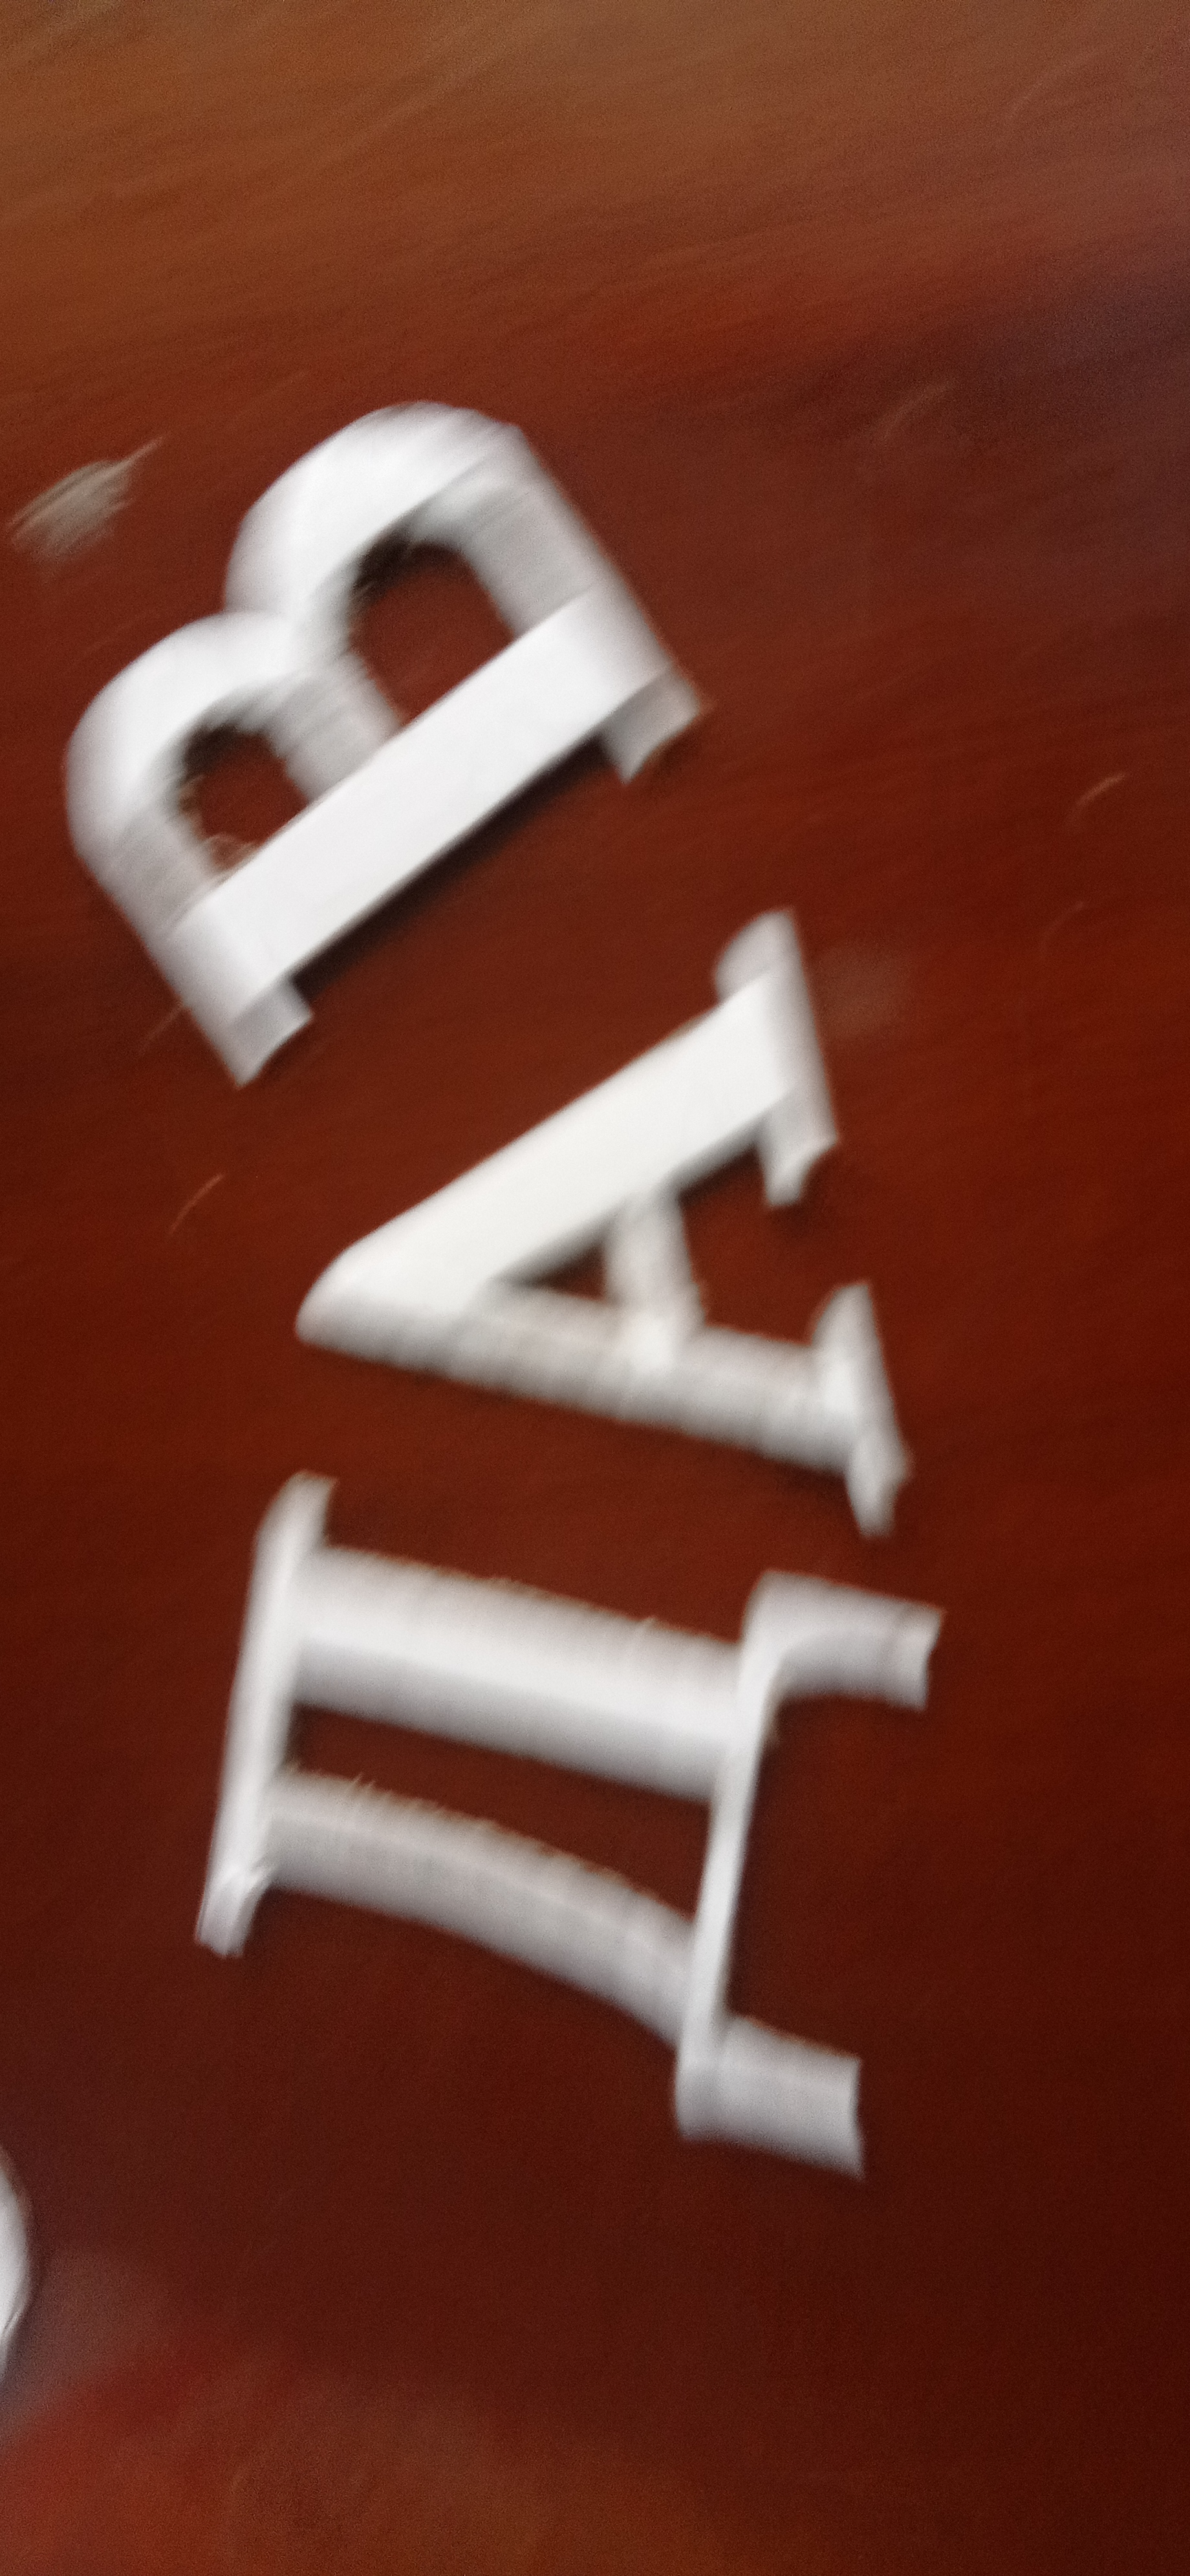a: (298, 917, 914, 1538)
d: (189, 1467, 945, 2190)
v: (67, 404, 703, 1066)
